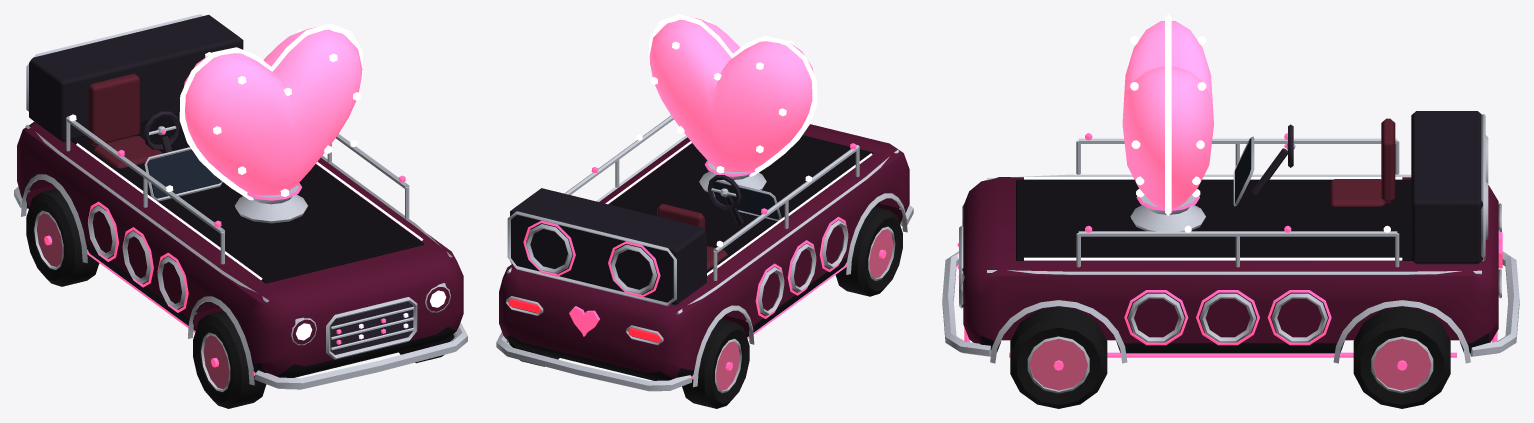
File: bass_valentine_lo.glb
3 views of the same model, side by side, from view 1: azimuth 30°, elevation 25°; view 2: azimuth 150°, elevation 25°; view 3: azimuth 270°, elevation 25° (orthographic). The views are drawn at different scales.
Visible parts, largest first — view 1: shell, heart_body, deck, sub, wheel_RR_tyre, wheel_FR_tyre, seat_back, bumper_1, grille_back, heart_led, windscreen, cradle (+17 smaller); view 2: shell, heart_body, sub, deck, wheel_FR_tyre, wheel_RR_tyre, bumper_0, heart_led, sub_frame, windscreen, rail_0, shoulder_0 (+17 smaller); view 3: shell, deck, heart_body, sub, wheel_FL_tyre, wheel_RL_tyre, wheel_FL_dish, wheel_RL_dish, rail_1, shoulder_1, cradle, bumper_1 (+21 smaller).
Part boxes in pixels (x1,y1,x2,y2): shell: (17, 121, 463, 377); heart_body: (184, 27, 362, 195); deck: (71, 114, 424, 283); sub: (29, 15, 243, 142); wheel_RR_tyre: (26, 188, 99, 286); wheel_FR_tyre: (193, 311, 266, 408); seat_back: (88, 73, 140, 146); bumper_1: (255, 323, 467, 389); grille_back: (329, 299, 413, 356); heart_led: (179, 23, 363, 200); windscreen: (147, 150, 221, 198); cradle: (235, 184, 307, 223); shell: (499, 124, 909, 380); heart_body: (649, 17, 813, 171); sub: (510, 188, 706, 305); deck: (609, 135, 873, 272); wheel_FR_tyre: (835, 206, 902, 296); wheel_RR_tyre: (682, 319, 749, 408); bumper_0: (496, 332, 691, 391); heart_led: (648, 14, 817, 176); sub_frame: (507, 211, 676, 306); windscreen: (713, 181, 779, 219); rail_0: (713, 145, 859, 252); shoulder_0: (676, 149, 899, 314); shell: (963, 177, 1498, 353); deck: (1016, 179, 1411, 260); heart_body: (1122, 21, 1213, 208); sub: (1411, 111, 1482, 264); wheel_FL_tyre: (1010, 306, 1107, 408); wheel_RL_tyre: (1353, 306, 1450, 408); wheel_FL_dish: (1029, 338, 1087, 390); wheel_RL_dish: (1373, 338, 1431, 390); rail_1: (1078, 231, 1397, 236); shoulder_1: (987, 270, 1481, 274); cradle: (1130, 195, 1205, 231); bumper_1: (942, 251, 991, 356).
Bounding box in the file's own units: 2.66 × 3.46 × 5.8.
